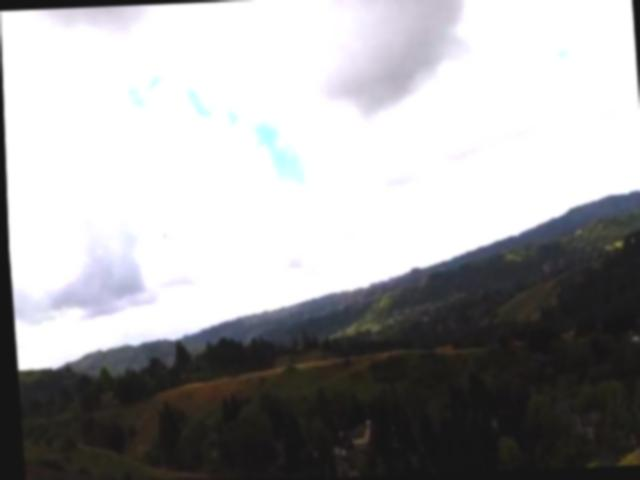iha: (156, 225, 179, 247)
